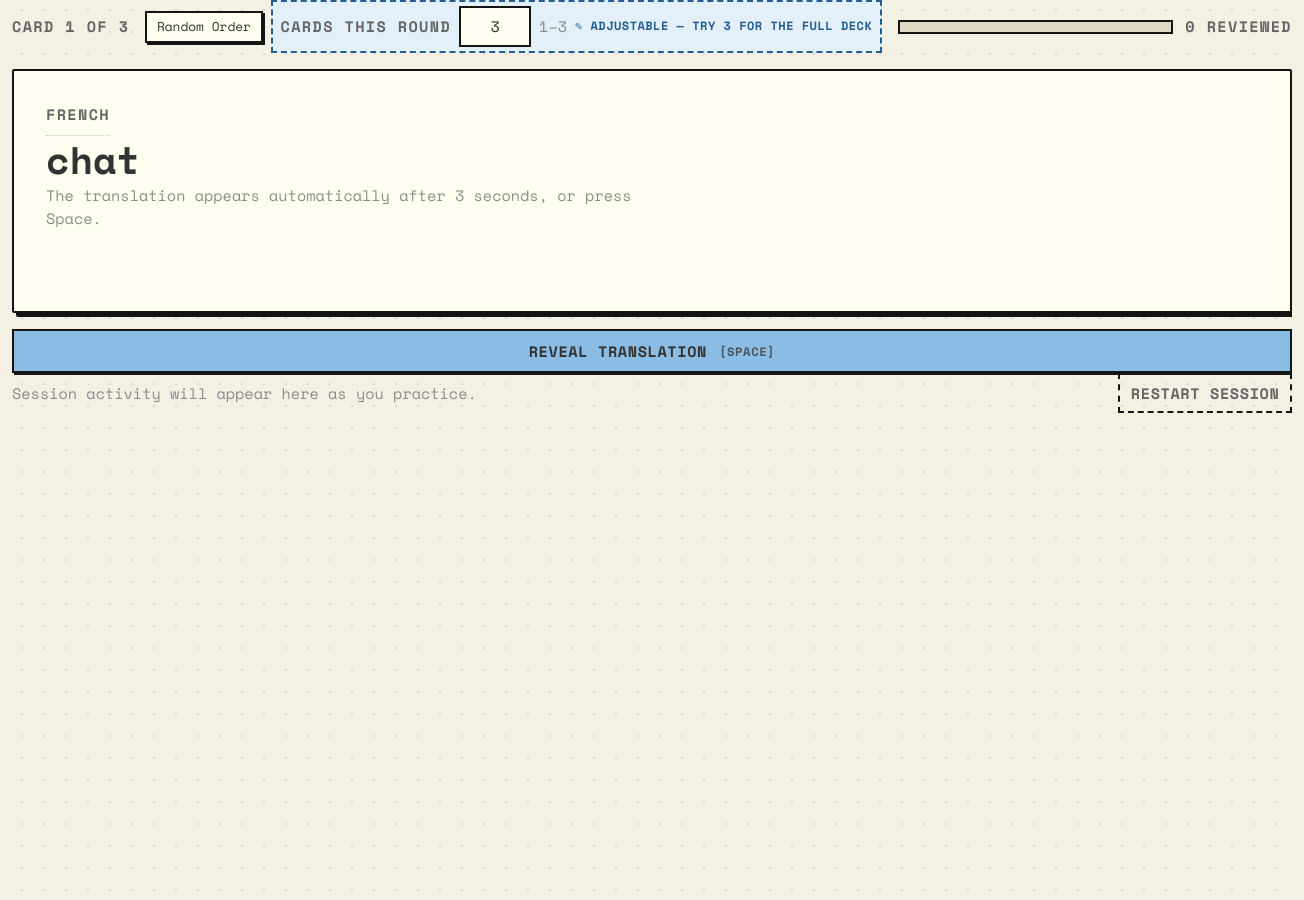
Test case: FlashcardsMode › known / needs practice buttons advance and are tallied in the session
Click the button "Reveal translation [Space]".
click(652, 351)  # box [12,329,1292,374]
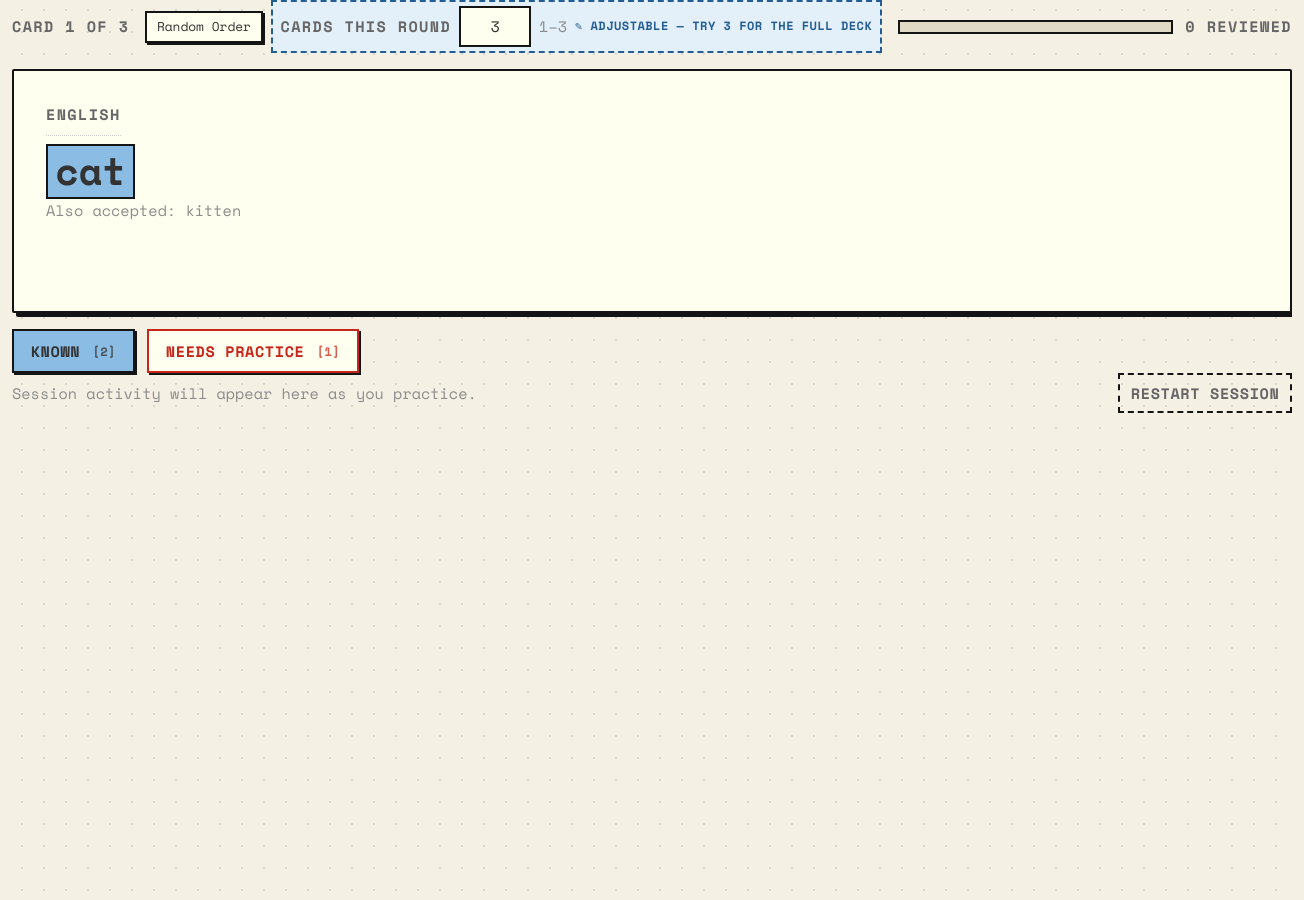
Click the button "Known [2]".
click(74, 351)  # box [12,329,135,374]
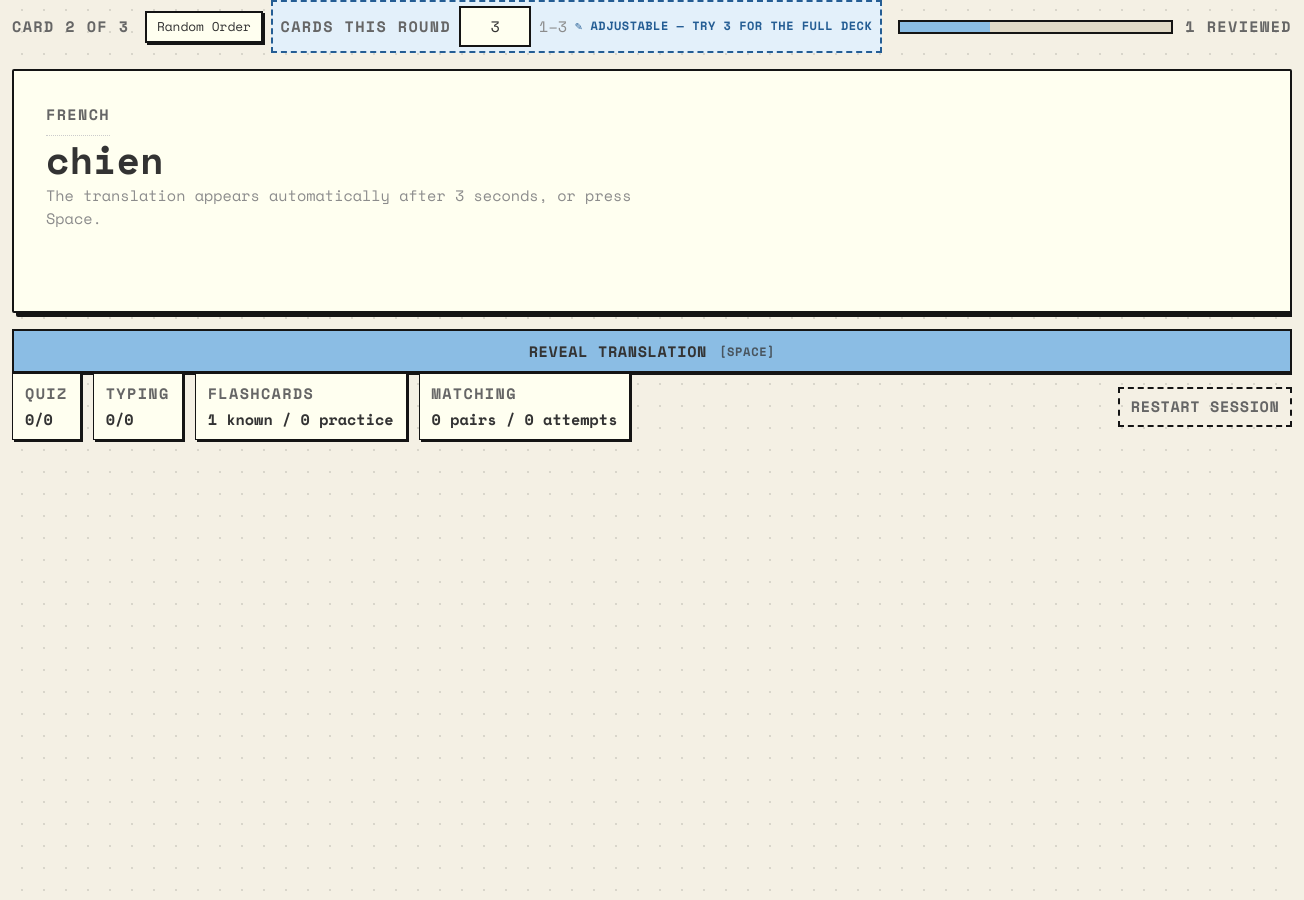
Now the element named "Session statistics" shows "1 known / 0 practice", box [208,408,394,430]
Now the text "chien" is shown, box [46,131,164,188]
Now the text "Card 2 of 3" is shown, box [12,15,129,38]
Click the button "Reveal translation [Space]".
click(652, 351)  # box [12,329,1292,374]
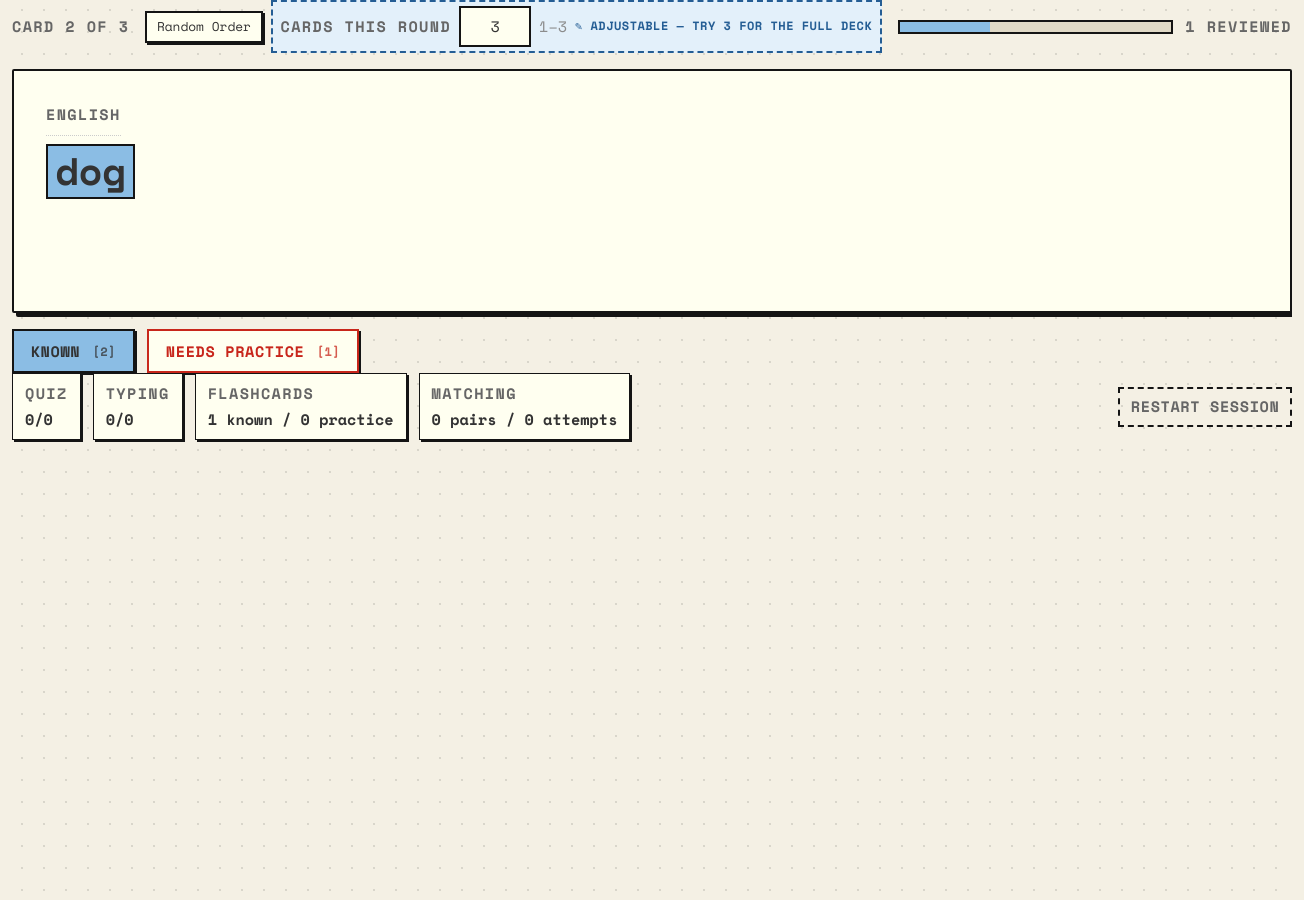
Click the button "Needs practice [1]".
click(253, 351)  # box [147,329,359,374]
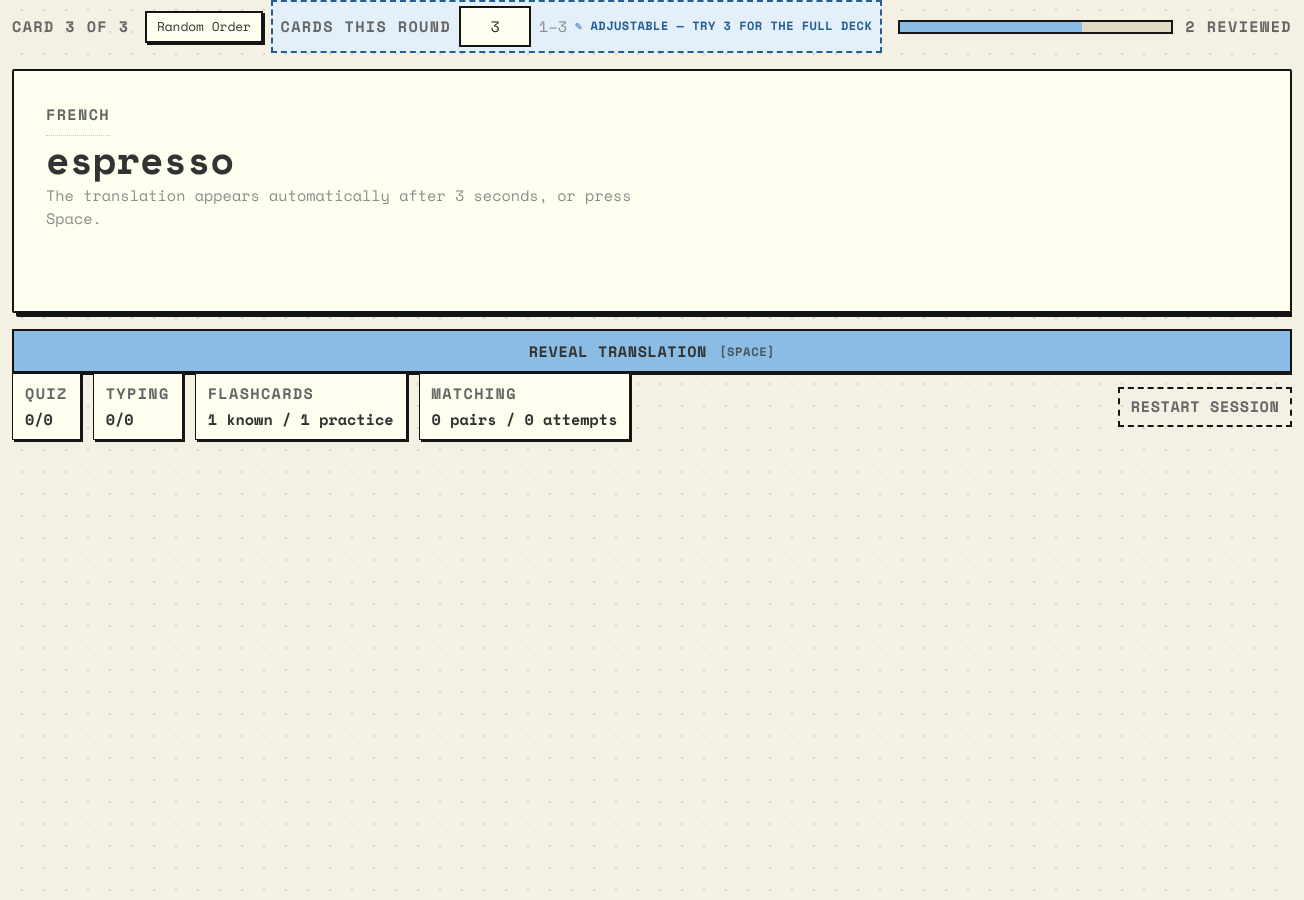
Now the element named "Session statistics" shows "1 known / 1 practice", box [208,408,394,430]
